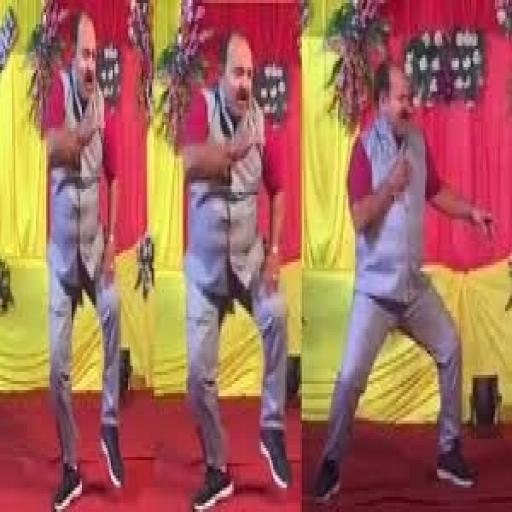dancing: (311, 27, 495, 506), (174, 24, 294, 509), (41, 6, 128, 509)
